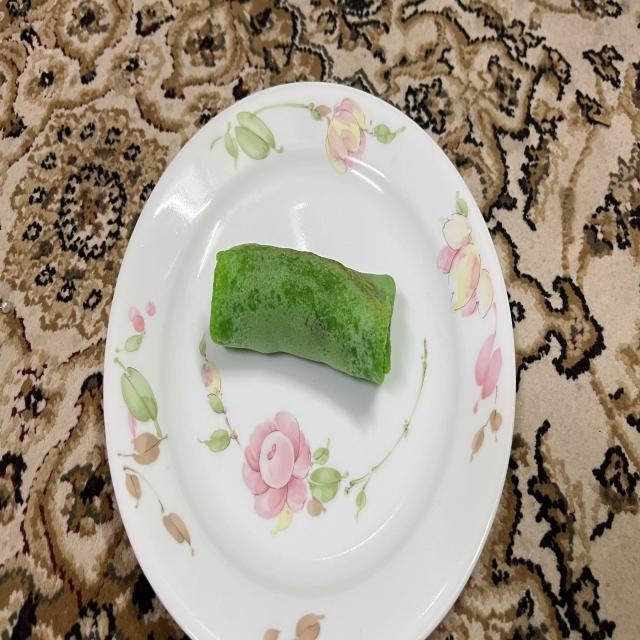Kuih-Ketayap: (210, 244, 395, 384)
